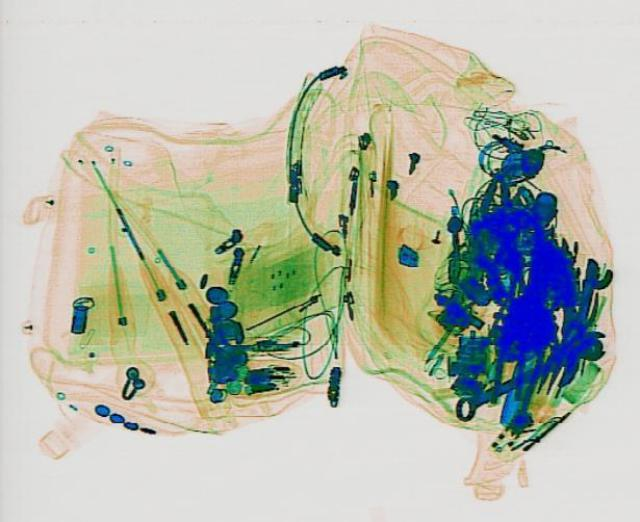Wrench: (441, 321, 617, 422)
